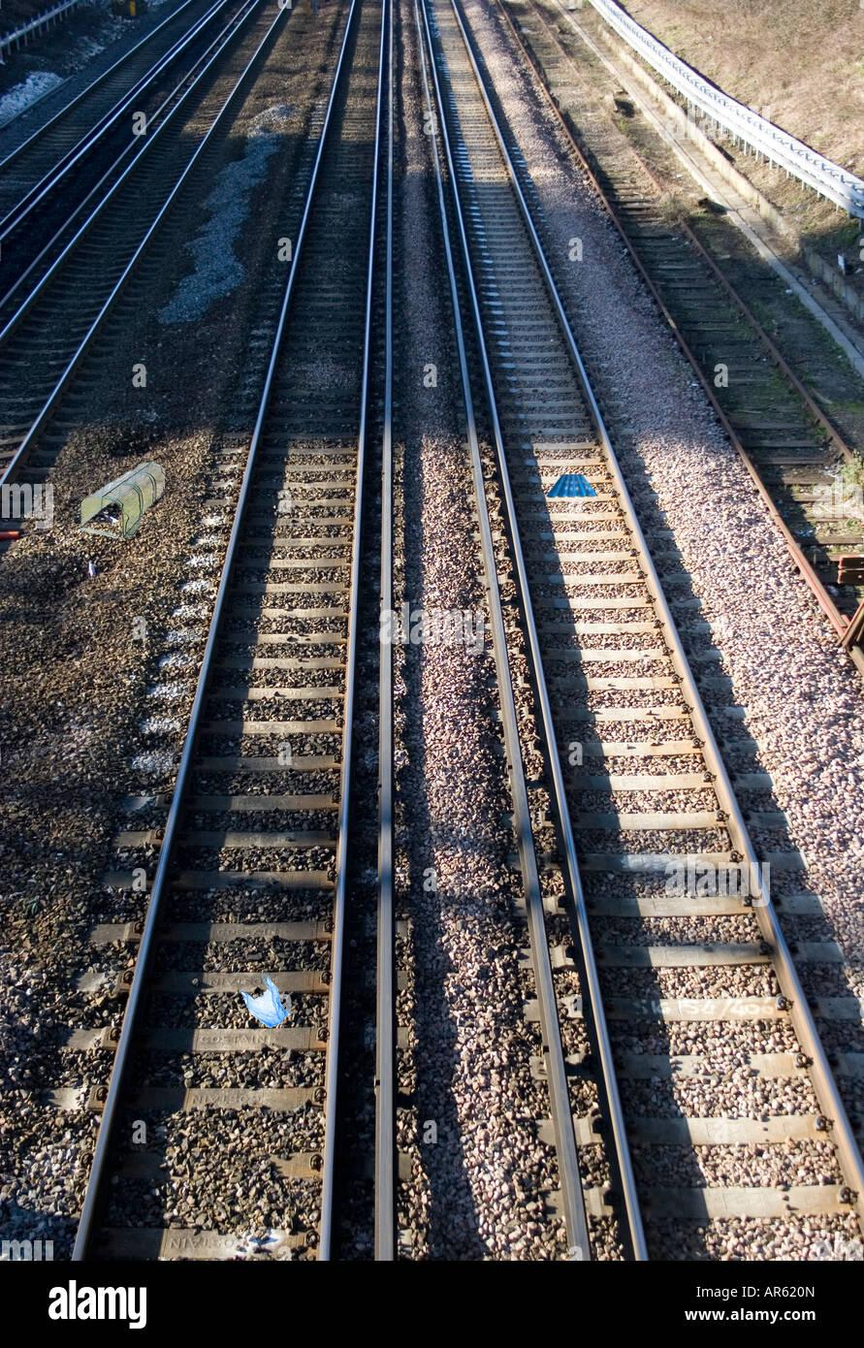Color_steel: (543, 465, 592, 514)
Green_house: (48, 441, 182, 558)
Plastic: (230, 982, 298, 1038)
